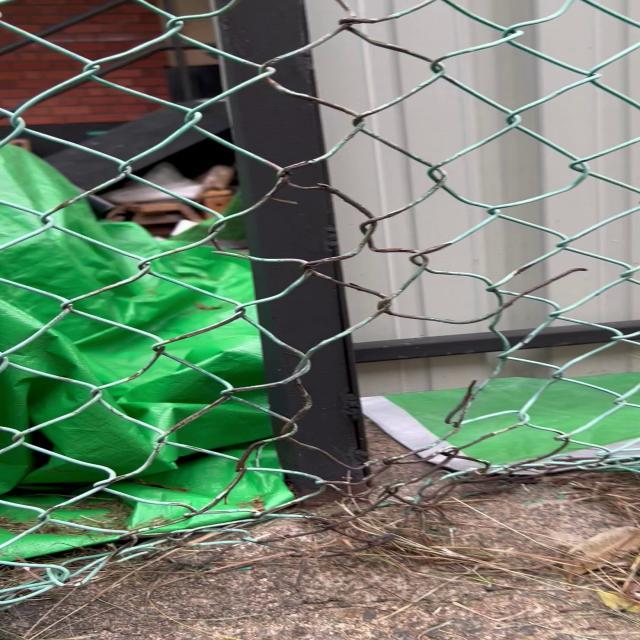fence line: (271, 313, 516, 473)
